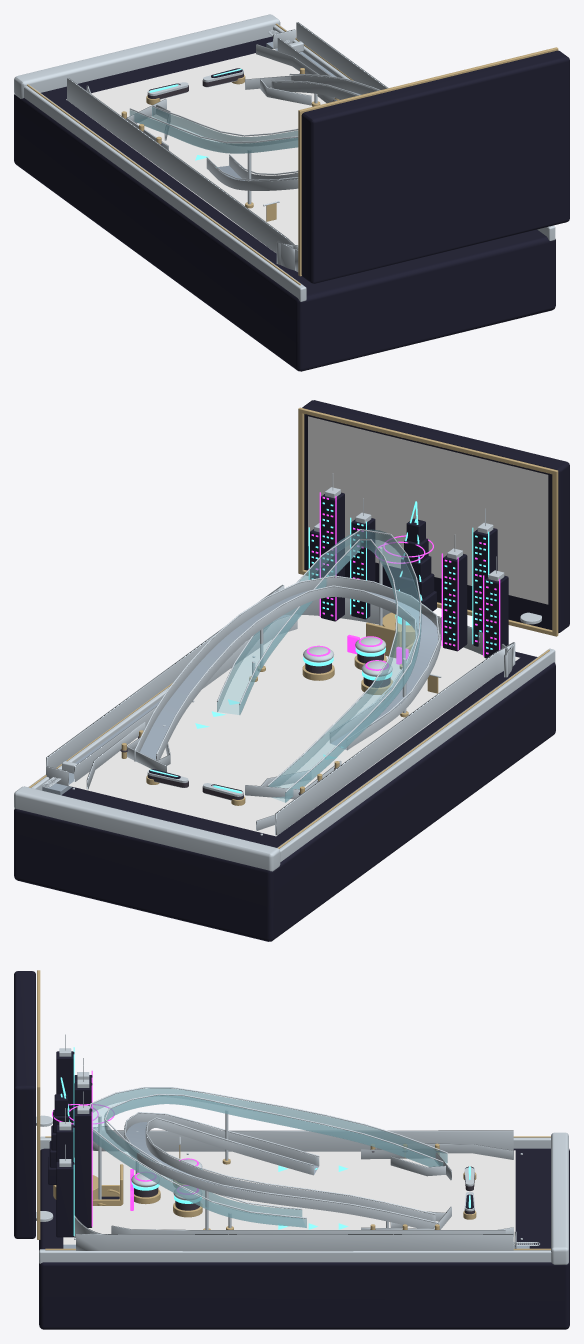
Rendered from neon.glb.
The picture shows the model from 3 angles, top to bottom: view 1: azimuth 30°, elevation 25°; view 2: azimuth 150°, elevation 25°; view 3: azimuth 270°, elevation 25°; orthographic projection. The views are drawn at different scales.
Parts seen in each view (by area): view 1: static-Obsidian, static-Chrome, static-Playfield, static-Gold, static-Glass; view 2: static-Obsidian, static-Chrome, static-Playfield, static-Backglass, static-Glass, static-Gold, static-Ramp, static-Secondary, static-Accent, gate; view 3: static-Obsidian, static-Chrome, static-Playfield, static-Glass, static-Gold, static-Ramp, static-Accent, static-Secondary.
Boxes of the visible parts, x1=… form: static-Obsidian: x1=14, y1=36, x2=569, y2=371; static-Chrome: x1=14, y1=14, x2=555, y2=301; static-Playfield: x1=66, y1=49, x2=326, y2=249; static-Gold: x1=27, y1=23, x2=558, y2=285; static-Glass: x1=129, y1=107, x2=298, y2=153; static-Obsidian: x1=14, y1=400, x2=569, y2=941; static-Chrome: x1=14, y1=473, x2=555, y2=871; static-Playfield: x1=69, y1=615, x2=519, y2=836; static-Backglass: x1=308, y1=416, x2=548, y2=604; static-Glass: x1=217, y1=529, x2=421, y2=802; static-Gold: x1=29, y1=407, x2=558, y2=848; static-Ramp: x1=42, y1=589, x2=439, y2=795; static-Secondary: x1=306, y1=492, x2=500, y2=670; static-Accent: x1=303, y1=501, x2=496, y2=680; gate: x1=366, y1=622, x2=401, y2=657; static-Obsidian: x1=14, y1=971, x2=569, y2=1329; static-Chrome: x1=36, y1=1034, x2=568, y2=1264; static-Playfield: x1=63, y1=1150, x2=515, y2=1244; static-Glass: x1=90, y1=1088, x2=447, y2=1227; static-Gold: x1=37, y1=970, x2=550, y2=1250; static-Ramp: x1=63, y1=1122, x2=529, y2=1248; static-Accent: x1=60, y1=1047, x2=201, y2=1235; static-Secondary: x1=52, y1=1070, x2=198, y2=1226.
Bounding box in the file's own units: 0.69 × 0.67 × 1.38.
